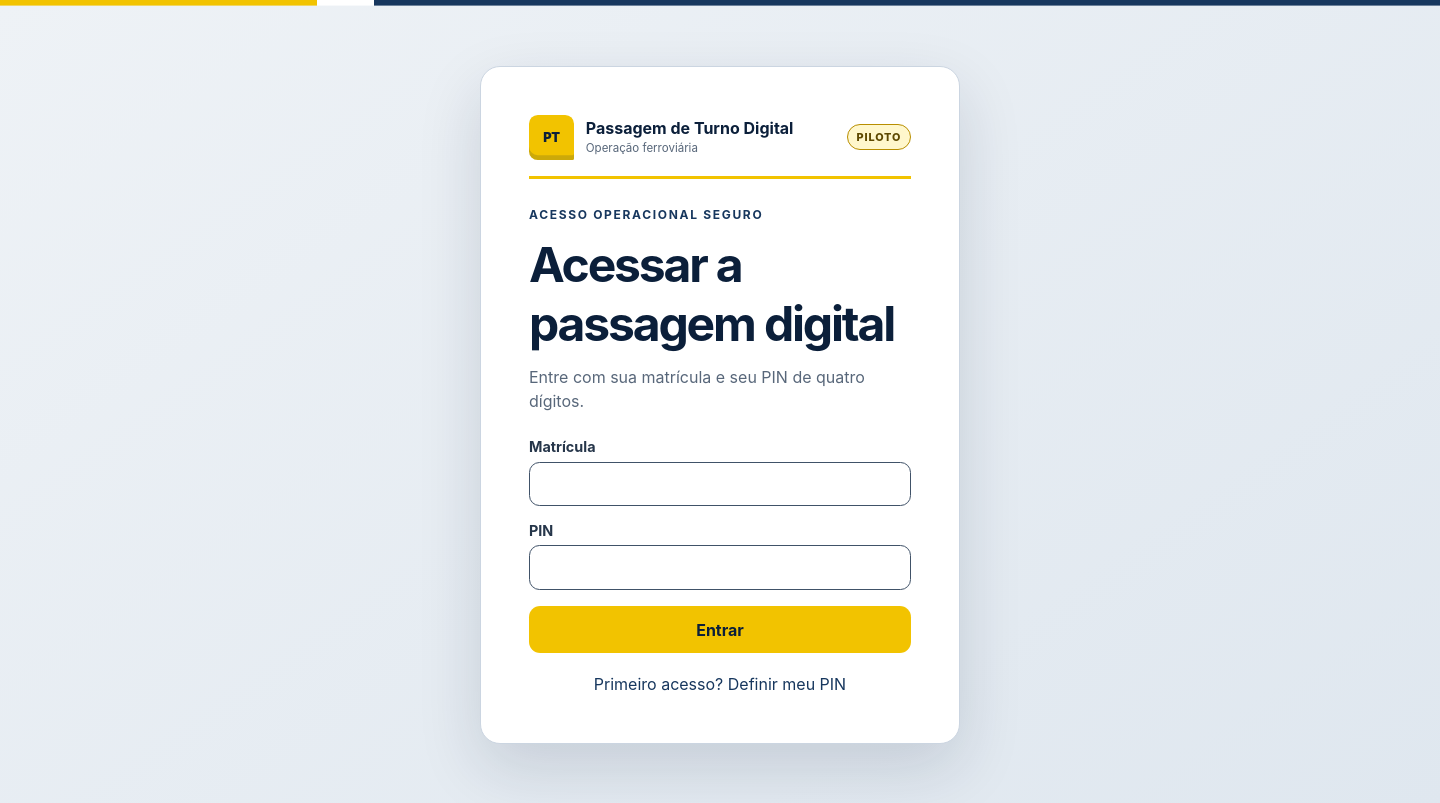
Test case: autenticação React › autentica pelo contrato existente e abre a rota protegida
In the field labelled "Matrícula": coordinates (720, 484) [529,462,911,506], type "30032552"
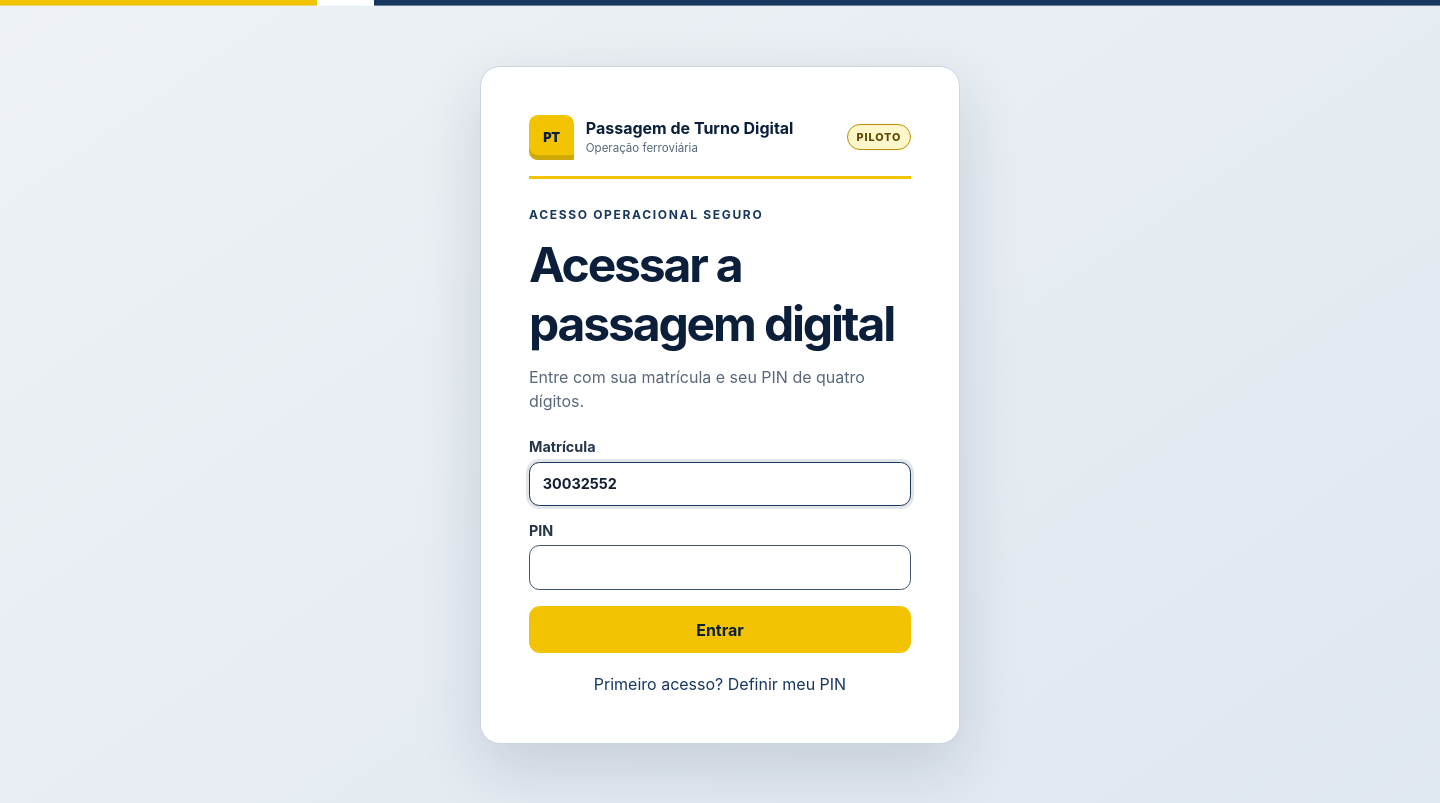
In the password field labelled "PIN": coordinates (720, 568) [529,546,911,590], type "4321"
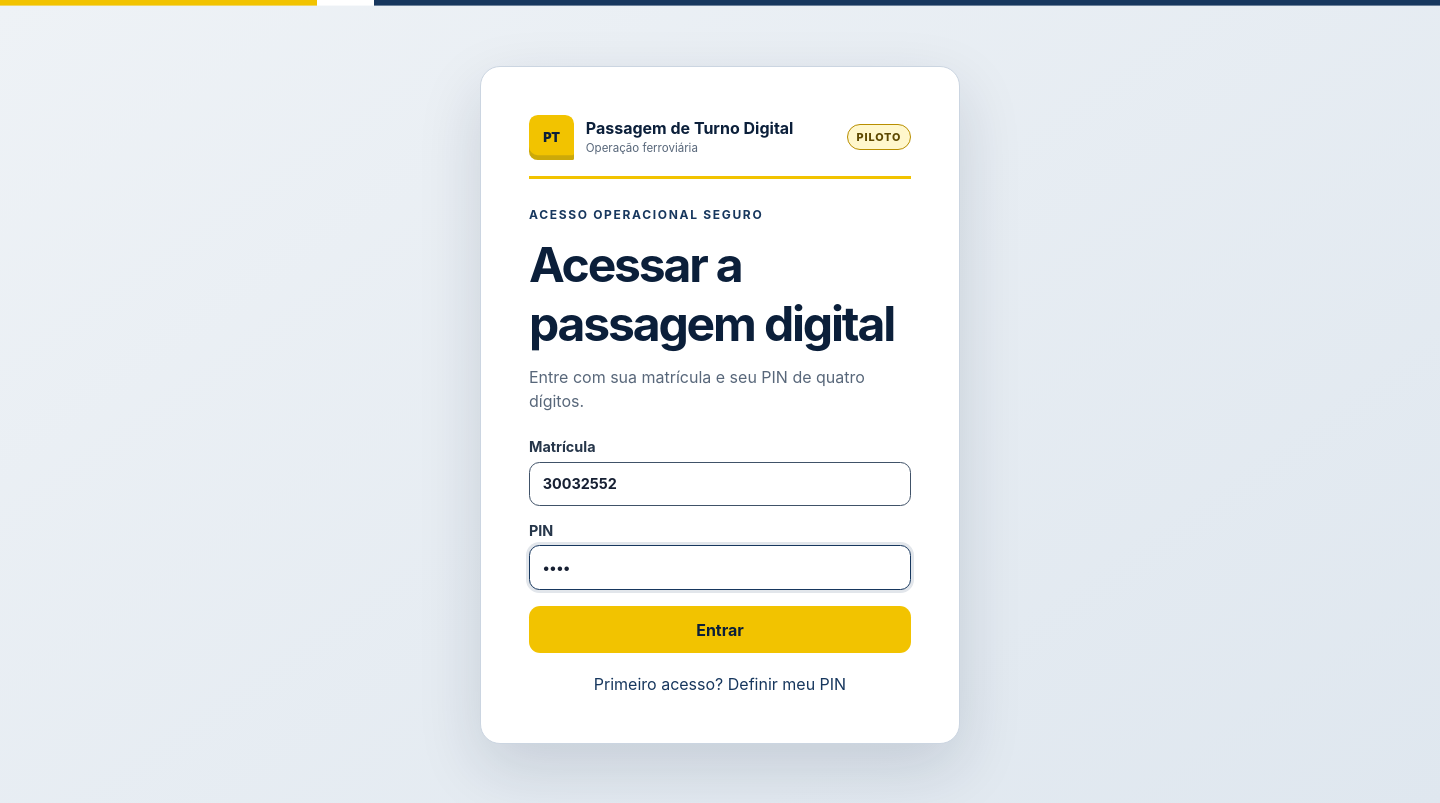
Click the button "Entrar": coordinates (720, 630) [529,606,911,653]
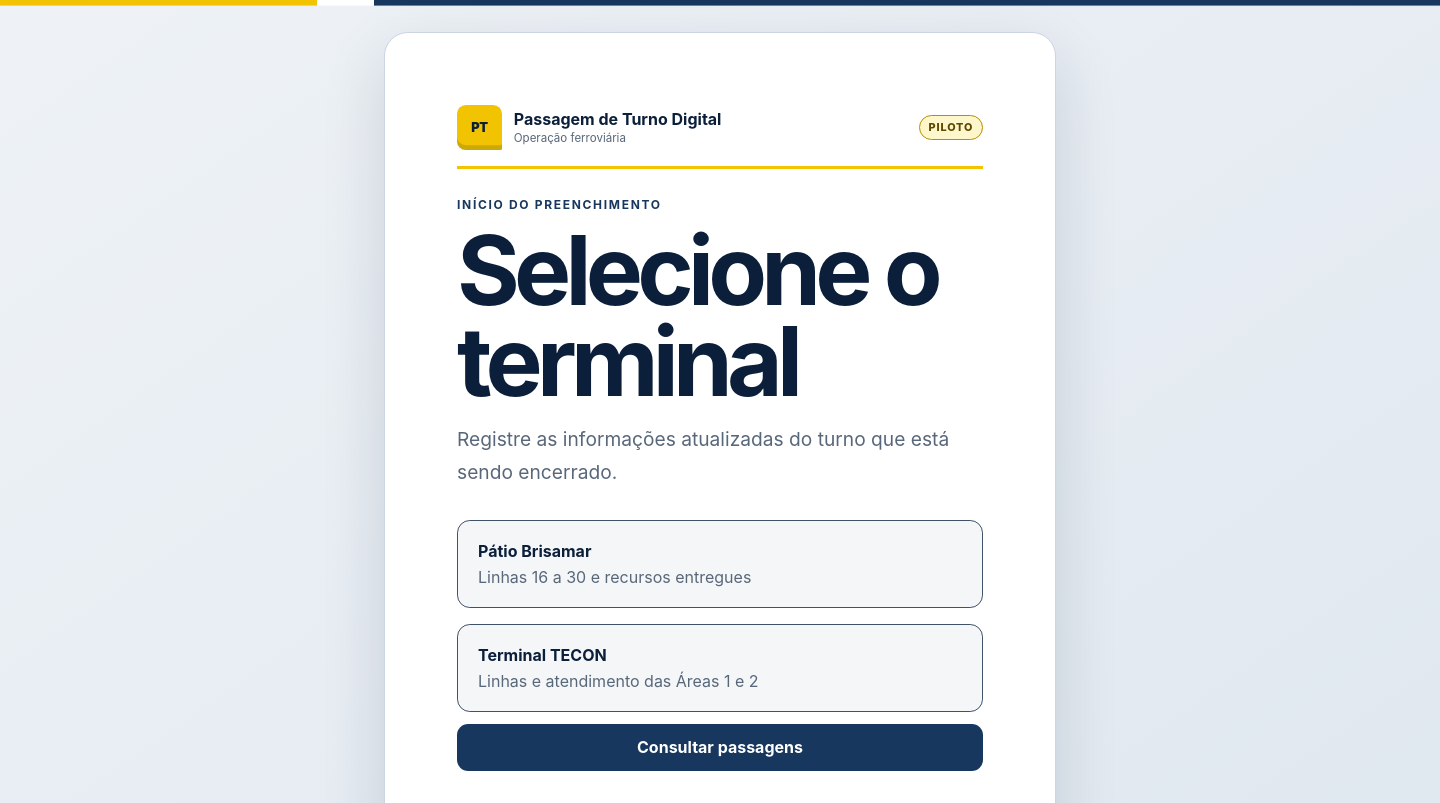
Check: the heading "Selecione o terminal" is shown, box [457,225,983,407]
